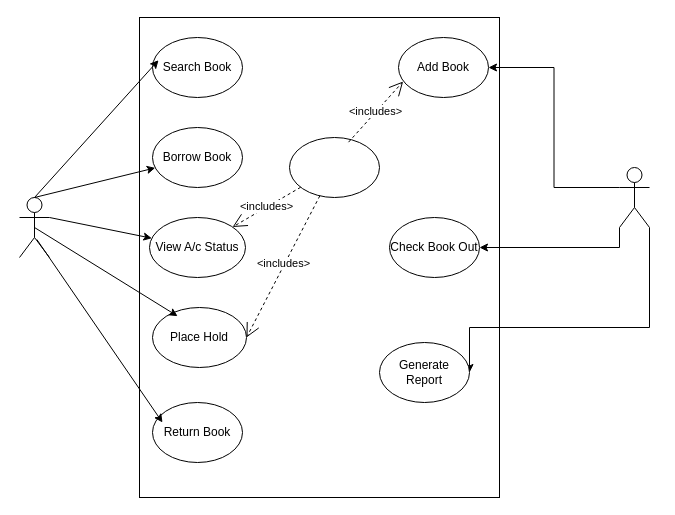
Image size: 675x515. Some labels were removed from this diagram. Each missing label, with the centre of its shape:
"Authenticate User" goes at (334,167).
"Librarian" goes at (634,197).
"Patron" goes at (34,227).
